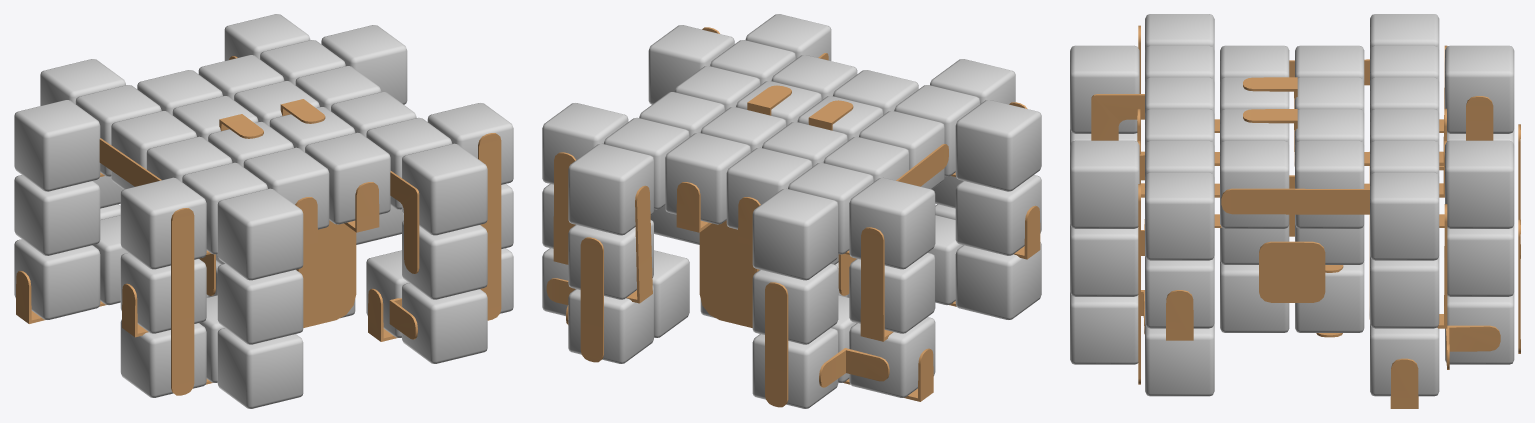
Rendered from level_137.fbx.
3 renders of one model, left to right at view 1: azimuth 30°, elevation 25°; view 2: azimuth 150°, elevation 25°; view 3: azimuth 270°, elevation 25°, orthographic. The views are drawn at different scales.
Parts seen in each view (by area): view 1: Cube_L1_33, Cube_L1, Cube_L1_43, Cube_L1_1, Cube_L1_34, Cube_L1_35, Cube_L1_30, Cube_L1_44, Cube_L1_2, Link_2, Cube_L1_46, Cube_L1_51 (+40 smaller); view 2: Cube_L1_3, Cube_L1_30, Cube_L1_9, Cube_L1, Cube_L1_32, Cube_L1_31, Link_1, Cube_L1_8, Cube_L1_29, Cube_L1_1, Cube_L1_2, Cube_L1_45 (+43 smaller); view 3: Cube_L1_16, Cube_L1_45, Cube_L1_43, Cube_L1_9, Cube_L1_3, Cube_L1_12, Cube_L1_44, Cube_L1_46, Cube_L1_10, Cube_L1_33, Cube_L1_21, Cube_L1_47 (+35 smaller).
Part boxes in pixels (<box>): Cube_L1_33: <box>217,188,303,280</box>; Cube_L1: <box>14,100,100,191</box>; Cube_L1_43: <box>402,143,487,235</box>; Cube_L1_1: <box>14,175,100,255</box>; Cube_L1_34: <box>217,328,303,408</box>; Cube_L1_35: <box>217,264,303,344</box>; Cube_L1_30: <box>120,177,206,269</box>; Cube_L1_44: <box>402,283,487,363</box>; Cube_L1_2: <box>14,239,100,319</box>; Link_2: <box>300,220,356,327</box>; Cube_L1_46: <box>402,220,487,299</box>; Cube_L1_51: <box>305,132,390,224</box>; Cube_L1_3: <box>752,188,838,280</box>; Cube_L1_30: <box>955,100,1041,191</box>; Cube_L1_9: <box>568,143,653,235</box>; Cube_L1: <box>849,177,935,269</box>; Cube_L1_32: <box>955,242,1041,319</box>; Cube_L1_31: <box>955,175,1041,255</box>; Link_1: <box>699,220,754,327</box>; Cube_L1_8: <box>665,132,750,224</box>; Cube_L1_29: <box>752,264,838,344</box>; Cube_L1_1: <box>849,253,935,333</box>; Cube_L1_2: <box>849,317,935,397</box>; Cube_L1_45: <box>648,25,734,104</box>; Cube_L1_16: <box>1370,172,1439,260</box>; Cube_L1_45: <box>1145,172,1214,260</box>; Cube_L1_43: <box>1070,140,1139,228</box>; Cube_L1_9: <box>1445,140,1514,228</box>; Cube_L1_3: <box>1445,45,1514,133</box>; Cube_L1_12: <box>1370,256,1439,328</box>; Cube_L1_44: <box>1070,292,1138,364</box>; Cube_L1_46: <box>1070,224,1138,296</box>; Cube_L1_10: <box>1447,224,1514,296</box>; Cube_L1_33: <box>1070,45,1139,133</box>; Cube_L1_21: <box>1220,140,1289,228</box>; Cube_L1_47: <box>1145,324,1214,396</box>.
Bounding box in the file's own units: 13.74 × 7.01 × 13.45.
